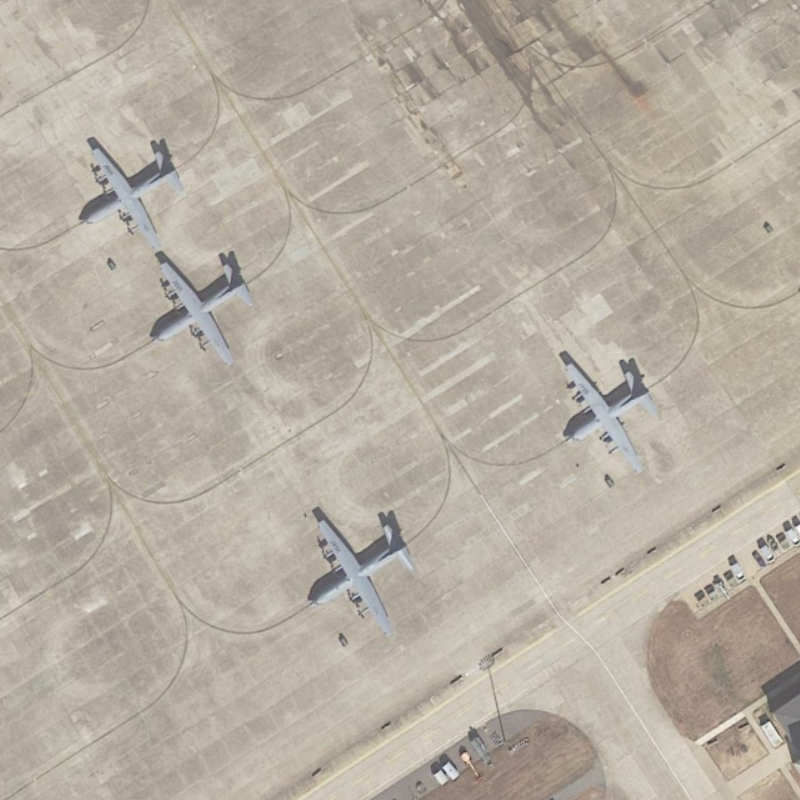A2: (296, 505, 421, 630), (141, 255, 262, 370), (69, 133, 189, 247), (554, 346, 659, 472)
